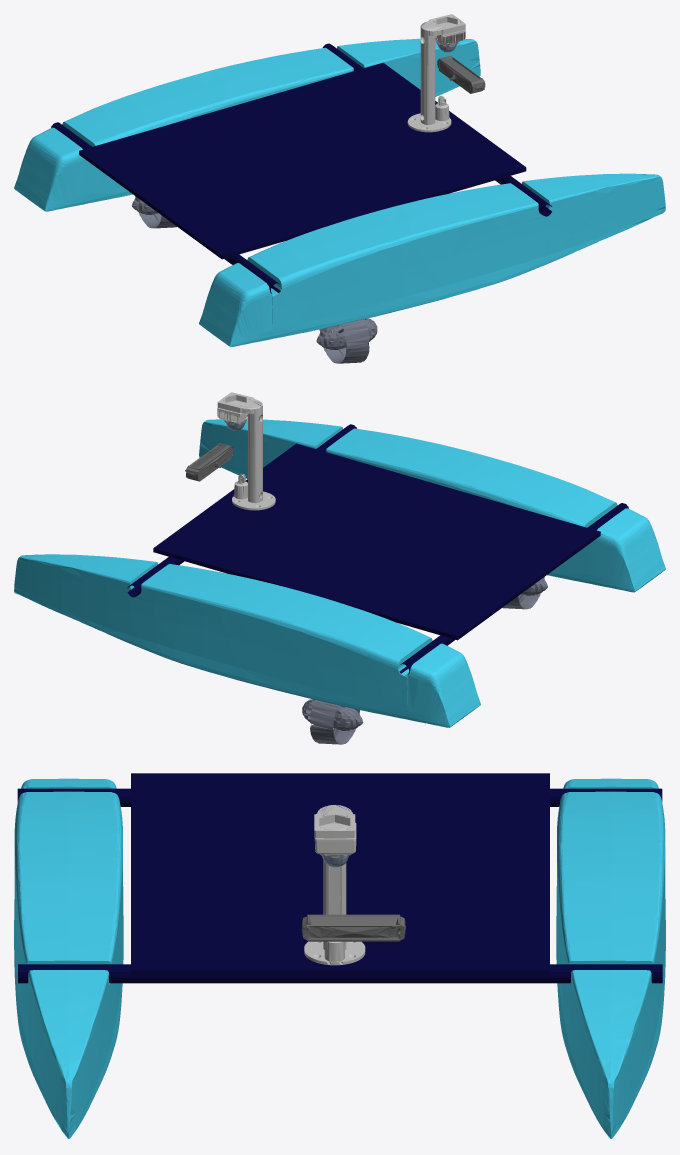
The model's file is njord.glb.
The picture shows the model from 3 angles, top to bottom: view 1: azimuth 30°, elevation 25°; view 2: azimuth 150°, elevation 25°; view 3: azimuth 270°, elevation 25°; orthographic projection. The views are drawn at different scales.
Visible parts, largest first — view 1: hull, hull_1, sensor_mount, thruster_starboard, camera, thruster_port; view 2: hull, hull_1, sensor_mount, thruster_port, camera, thruster_starboard; view 3: hull_1, hull, sensor_mount, camera, lidar.
Boxes of the visible parts, x1,y1,x2,y2 form: hull: (14,38,665,347); hull_1: (51,43,551,293); sensor_mount: (407,14,465,132); thruster_starboard: (316,318,377,363); camera: (437,55,485,93); thruster_port: (132,196,176,228); hull: (14,419,665,727); hull_1: (127,424,628,674); sensor_mount: (217,392,275,510); thruster_port: (302,699,363,744); camera: (185,443,232,481); thruster_starboard: (502,577,547,609); hull_1: (17,773,662,983); hull: (14,778,665,1138); sensor_mount: (304,805,365,965); camera: (301,914,405,941); lidar: (314,822,356,858).
Bounding box in the file's own units: 1.19 × 0.57 × 1.01.
